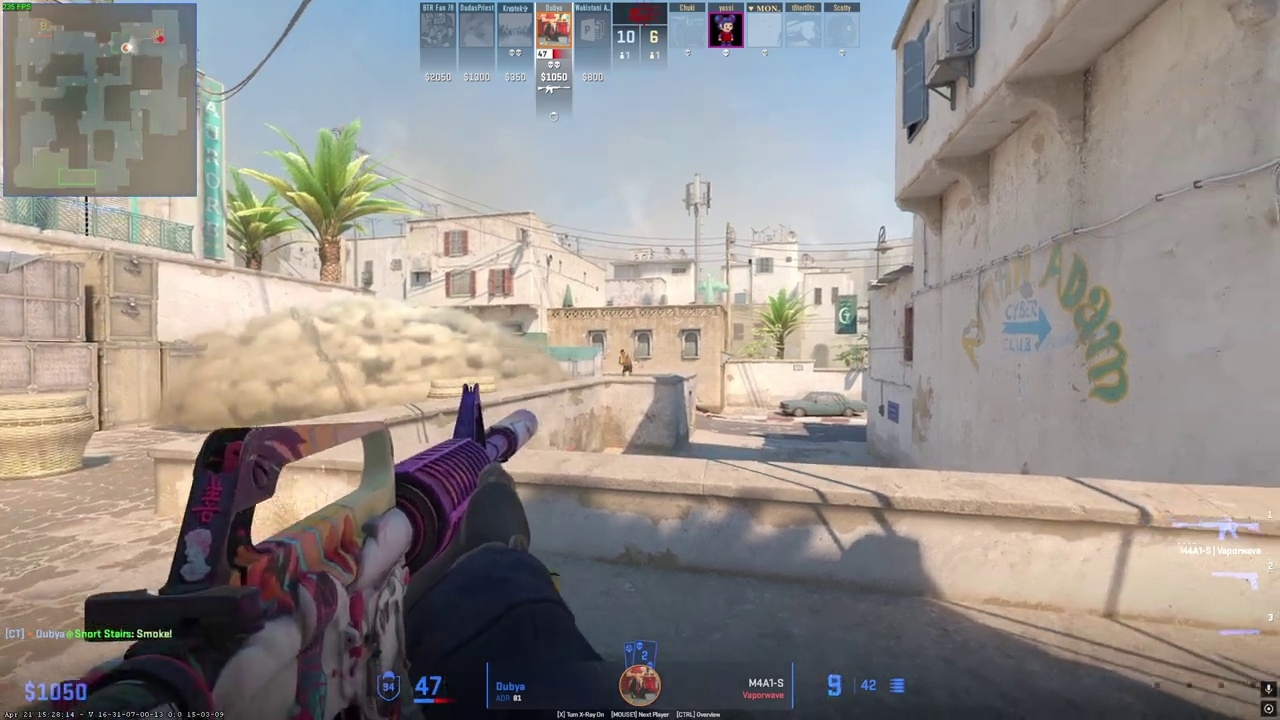Terrorist: (618, 348, 633, 375)
